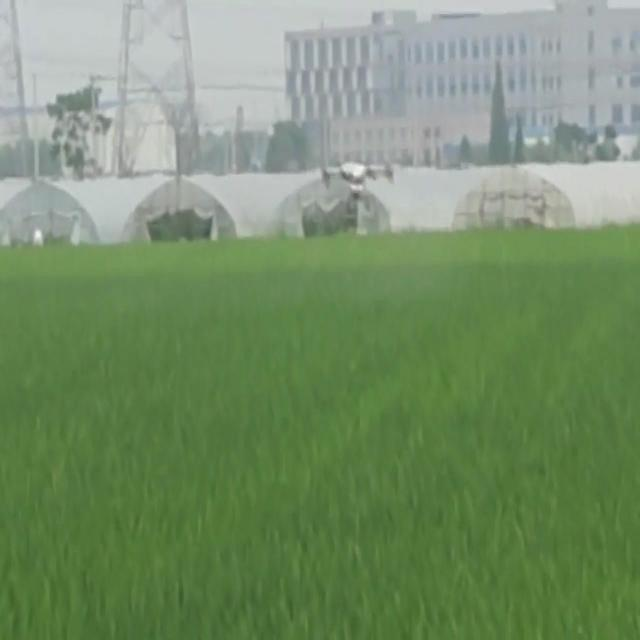UAV: (322, 163, 394, 215)
